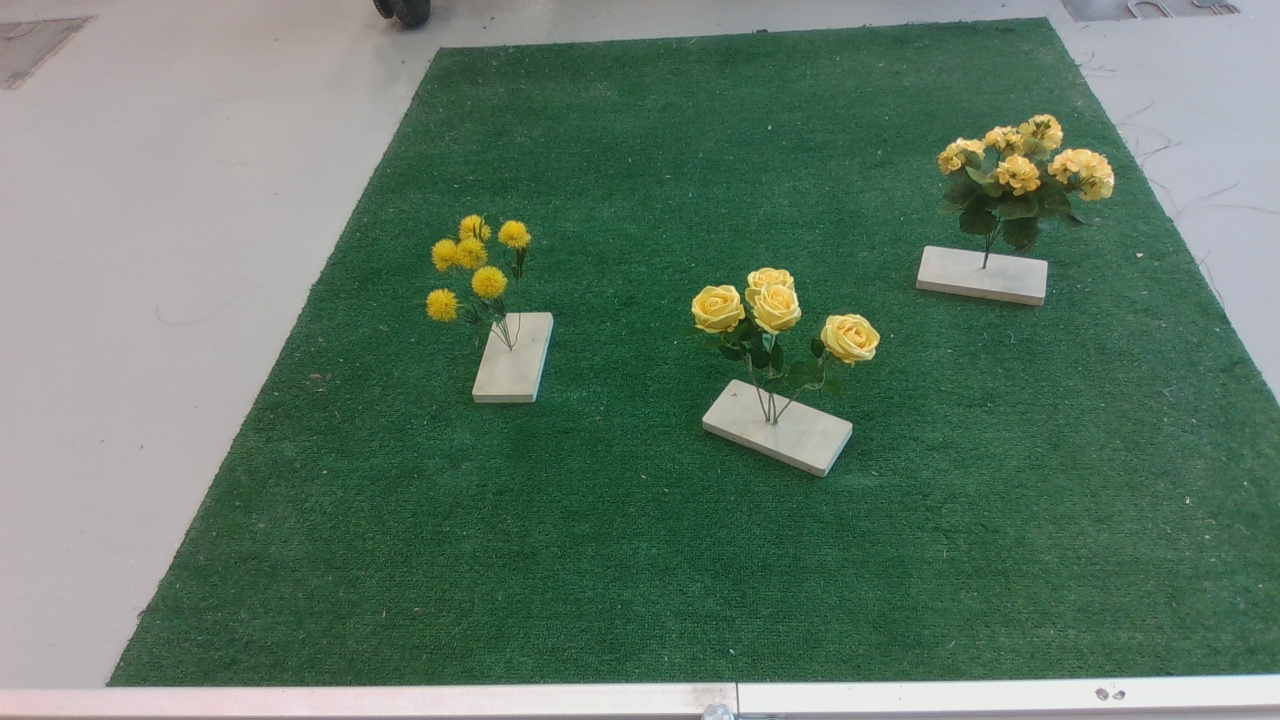dandelion: (417, 212, 549, 335)
geranium: (934, 106, 1127, 260)
rose: (684, 260, 892, 395)
